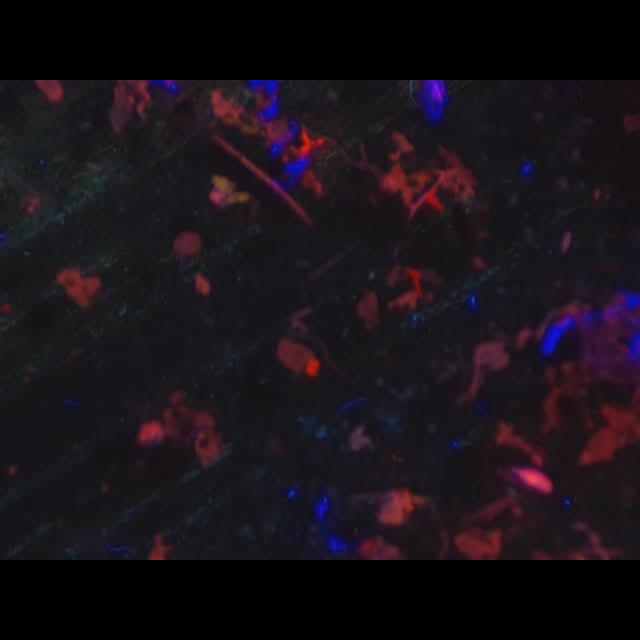Fragment: (58, 267, 100, 307)
